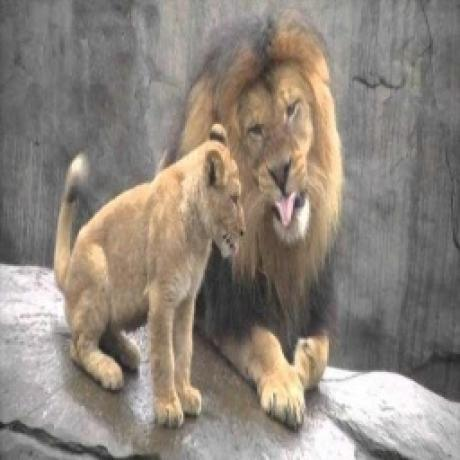Lion: (174, 14, 345, 434), (51, 122, 248, 431)
